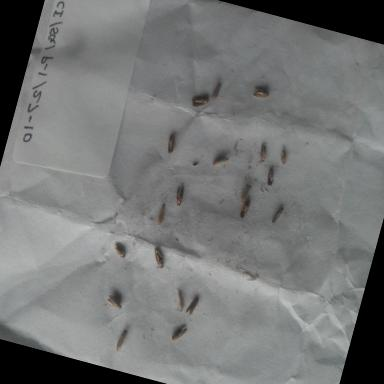pbw: (102, 291, 130, 320), (147, 244, 172, 275), (168, 318, 191, 348), (274, 144, 296, 174), (107, 238, 130, 266), (110, 327, 130, 359), (182, 291, 204, 320), (168, 288, 191, 315), (162, 128, 180, 160), (206, 78, 226, 106), (208, 150, 231, 174), (188, 88, 210, 113), (268, 202, 288, 228), (235, 180, 255, 206), (154, 201, 172, 229), (248, 82, 272, 103), (253, 141, 272, 167), (237, 196, 254, 225), (172, 181, 188, 210), (261, 165, 279, 190)
